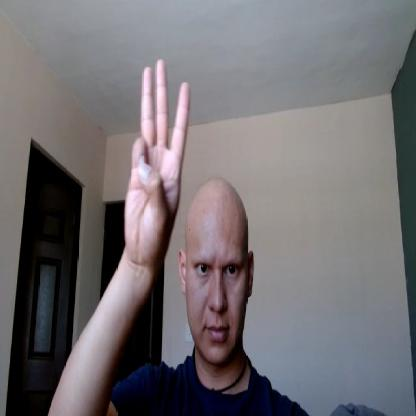W: (126, 58, 190, 257)
